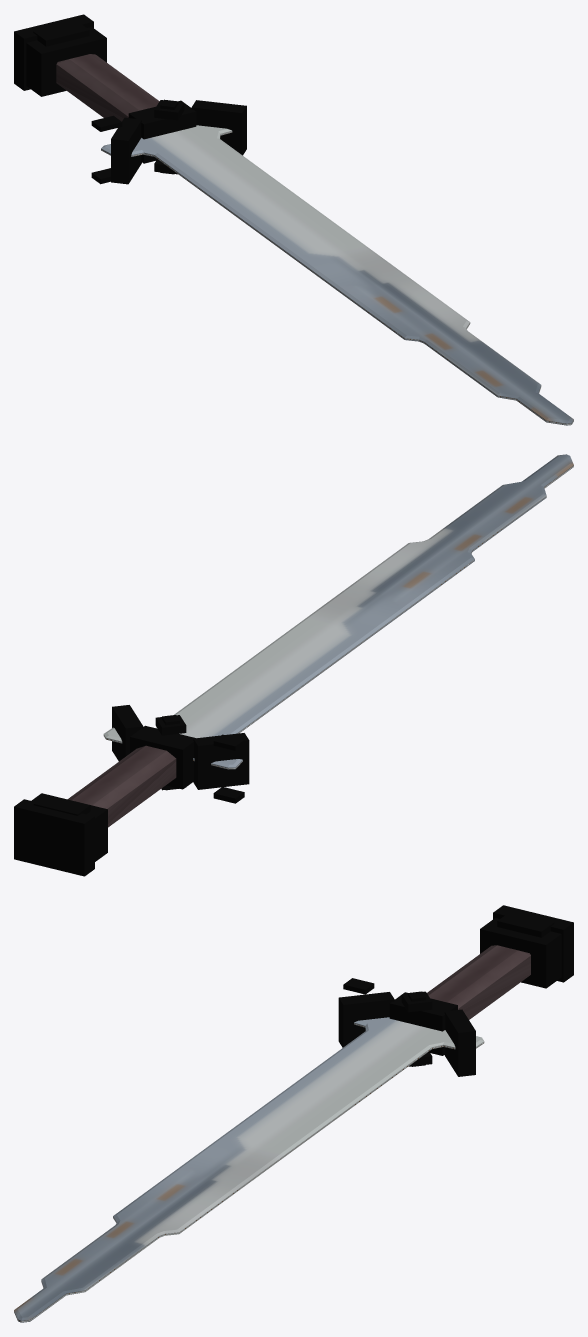
The model's file is han_iron_jian.obj.
The picture shows the model from 3 angles, top to bottom: view 1: azimuth 30°, elevation 25°; view 2: azimuth 150°, elevation 25°; view 3: azimuth 330°, elevation 25°; orthographic projection.
Visible parts, largest first — view 1: han_iron_jian; view 2: han_iron_jian; view 3: han_iron_jian.
Boxes of the visible parts, x1=… form: han_iron_jian: x1=14, y1=14, x2=573, y2=425; han_iron_jian: x1=14, y1=454, x2=573, y2=876; han_iron_jian: x1=14, y1=905, x2=573, y2=1322.
Bounding box in the file's own units: 0.1984 × 0.0918 × 1.28.
